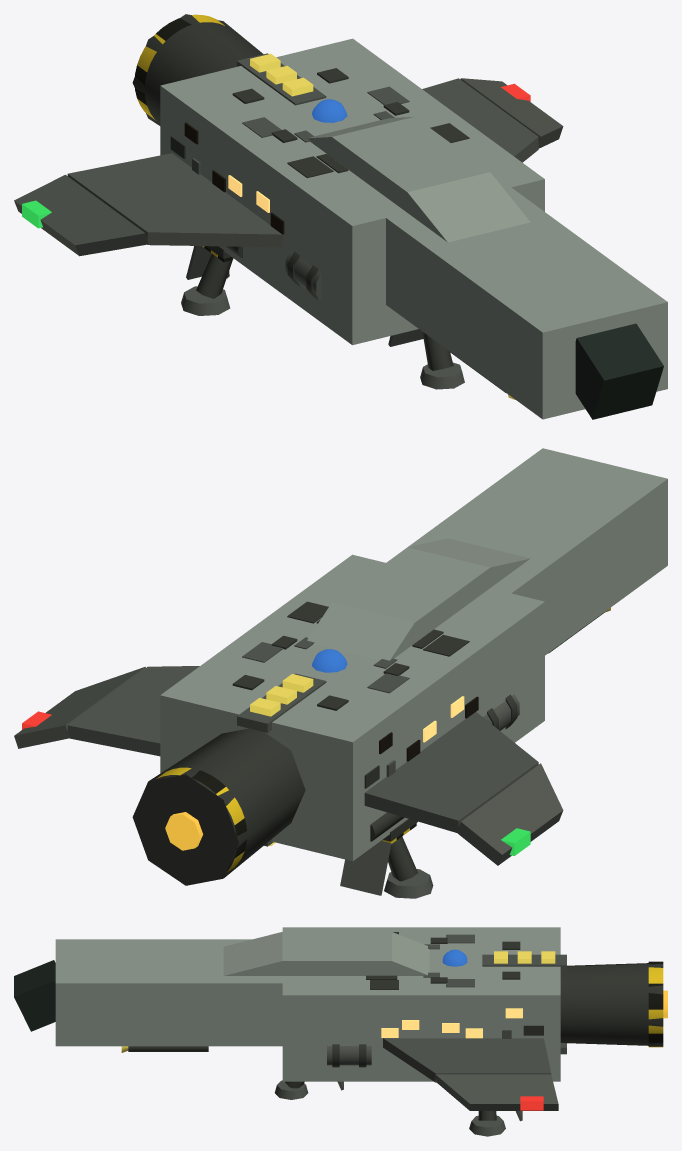
The model's file is police-s.glb.
The picture shows the model from 3 angles, top to bottom: view 1: azimuth 30°, elevation 25°; view 2: azimuth 150°, elevation 25°; view 3: azimuth 270°, elevation 25°; orthographic projection. The views are drawn at different scales.
Visible parts, largest first — view 1: hullMain, hullNose, canopyFairing, wingInnerLeft, cockpitGlass, engineHousing, wingOuterLeft, wingInnerRight, wingOuterRight, gearFoot (×2), gearStrut (×2), iffPlinthDorsal (+3 smaller); view 2: hullMain, hullNose, engineHousing, canopyFairing, wingInnerLeft, wingInnerRight, wingOuterLeft, wingOuterRight, gearBayDoor, iffPlinthDorsal, engineGlow, gearFoot (+2 smaller); view 3: hullMain, hullNose, canopyFairing, engineHousing, wingInnerRight, wingOuterRight, cockpitGlass, gearFoot (×2), iffPlinthDorsal, policeShipPropellantTankR, laserBarrel, navLightPort (+1 smaller).
Boxes of the visible parts, x1=… form: hullMain: x1=160, y1=38, x2=544, y2=345; hullNose: x1=386, y1=176, x2=667, y2=419; canopyFairing: x1=307, y1=116, x2=530, y2=242; wingInnerLeft: x1=67, y1=153, x2=282, y2=247; cockpitGlass: x1=575, y1=323, x2=663, y2=419; engineHousing: x1=132, y1=14, x2=263, y2=125; wingOuterLeft: x1=14, y1=174, x2=147, y2=256; wingInnerRight: x1=422, y1=78, x2=538, y2=162; wingOuterRight: x1=460, y1=78, x2=563, y2=148; gearFoot (×2): x1=181, y1=286, x2=464, y2=389; gearStrut (×2): x1=196, y1=254, x2=453, y2=370; iffPlinthDorsal: x1=237, y1=53, x2=326, y2=105; hullMain: x1=160, y1=554, x2=544, y2=861; hullNose: x1=407, y1=448, x2=667, y2=655; engineHousing: x1=132, y1=728, x2=305, y2=885; canopyFairing: x1=307, y1=538, x2=530, y2=660; wingInnerLeft: x1=364, y1=712, x2=538, y2=832; wingInnerRight: x1=67, y1=666, x2=199, y2=756; wingOuterLeft: x1=456, y1=763, x2=563, y2=865; wingOuterRight: x1=14, y1=666, x2=145, y2=748; gearBayDoor: x1=340, y1=840, x2=391, y2=895; iffPlinthDorsal: x1=237, y1=673, x2=326, y2=732; engineGlow: x1=165, y1=812, x2=203, y2=850; gearFoot: x1=384, y1=869, x2=433, y2=898; hullMain: x1=282, y1=927, x2=560, y2=1081; hullNose: x1=55, y1=939, x2=304, y2=1046; canopyFairing: x1=223, y1=931, x2=429, y2=975; engineHousing: x1=560, y1=963, x2=663, y2=1046; wingInnerRight: x1=383, y1=1038, x2=551, y2=1082; wingOuterRight: x1=435, y1=1074, x2=558, y2=1110; cockpitGlass: x1=14, y1=960, x2=55, y2=1031; gearFoot (×2): x1=274, y1=1080, x2=505, y2=1136; iffPlinthDorsal: x1=482, y1=954, x2=566, y2=971; policeShipPropellantTankR: x1=327, y1=1046, x2=371, y2=1065; laserBarrel: x1=128, y1=1046, x2=208, y2=1051; navLightPort: x1=520, y1=1096, x2=543, y2=1110.
Bounding box in the file's own units: 2.81 × 1.1 × 4.47.
